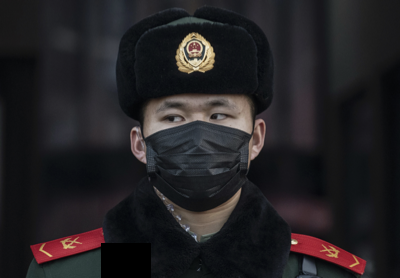with_mask: (143, 97, 255, 211)
